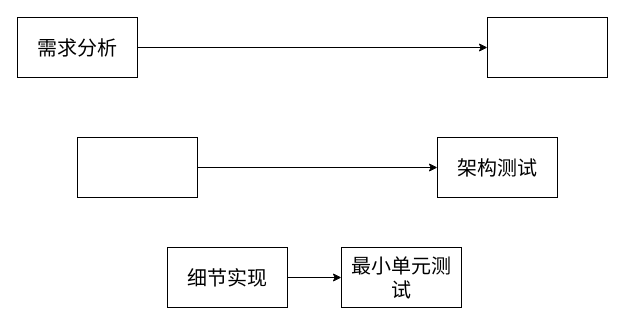
Some shapes in this 625 by 325 pixel diagram are drawn without their labels. The centre of each missing label's shape, as x and y in pixels:
"架构设计" belongs at [137,167].
"需求实现测试 （质量测试）" belongs at [547,47].
